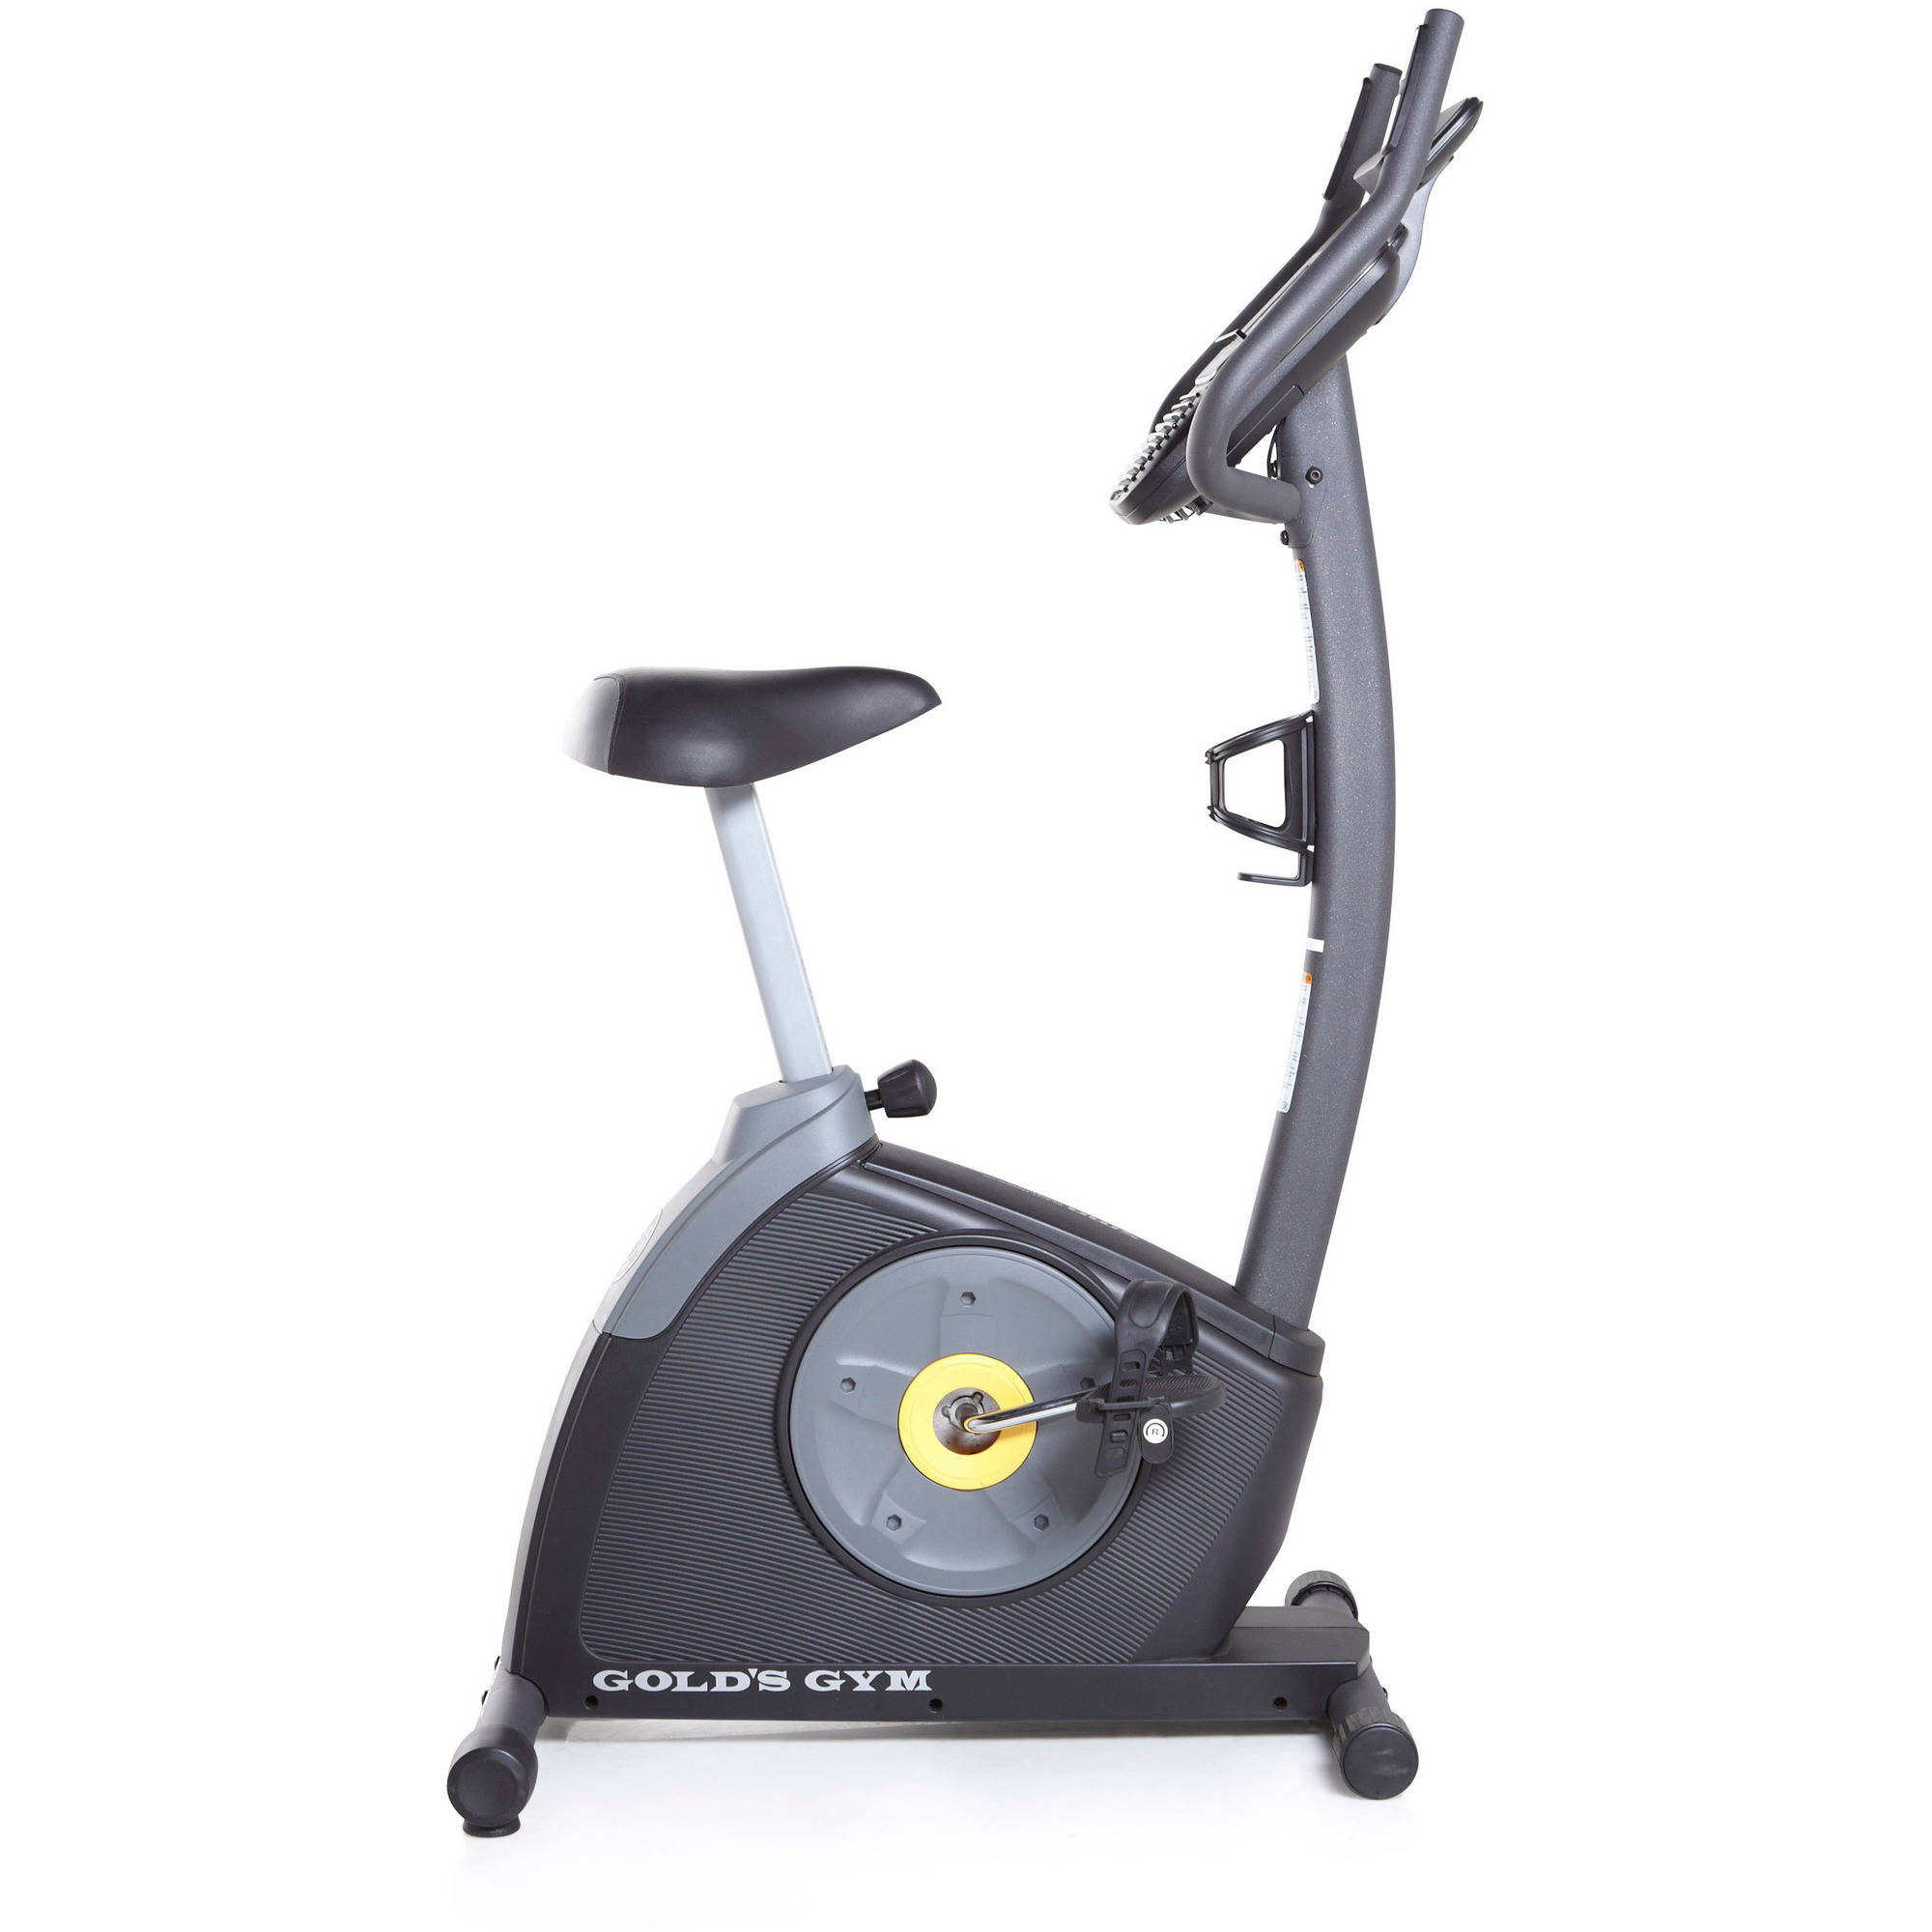gym_bike: (437, 11, 1520, 1812)
